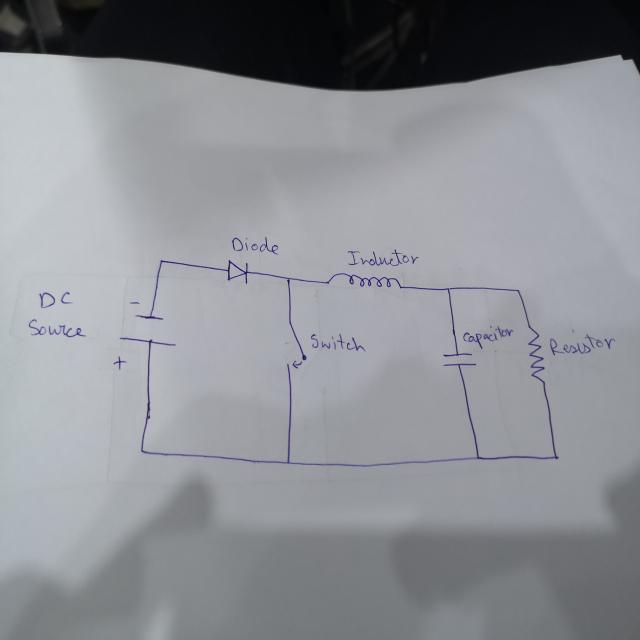capacitor: (441, 350, 475, 368)
diode: (224, 258, 250, 284)
inductor: (323, 270, 403, 291)
junction: (154, 253, 167, 270), (136, 442, 148, 458), (282, 453, 293, 468), (282, 272, 293, 286), (473, 452, 483, 464), (513, 284, 522, 297), (551, 450, 560, 462), (444, 284, 452, 294)
resistor: (526, 326, 546, 384)
source: (111, 297, 180, 373)
switch: (282, 318, 309, 375)
text: (548, 326, 617, 358), (27, 316, 88, 340), (346, 250, 418, 268), (460, 325, 514, 349), (308, 331, 365, 352), (229, 234, 279, 254), (36, 288, 75, 309)
